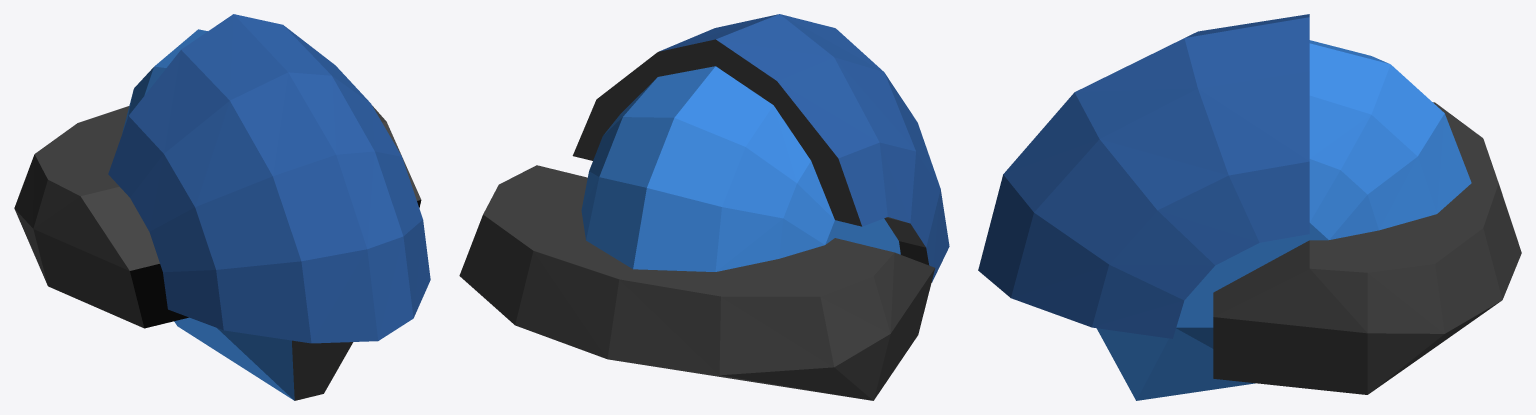
Rendered from Head2.FBX.
3 renders of one model, left to right at view 1: azimuth 30°, elevation 25°; view 2: azimuth 150°, elevation 25°; view 3: azimuth 270°, elevation 25°, orthographic. The views are drawn at different scales.
Visible parts, largest first — view 1: VIFS001, VIFS002, VIFS003, VIFS004; view 2: VIFS002, VIFS003, VIFS001; view 3: VIFS001, VIFS002, VIFS003.
Boxes of the visible parts, <box> form: VIFS001: <box>108,14,430,343</box>; VIFS002: <box>14,105,421,400</box>; VIFS003: <box>122,29,294,400</box>; VIFS004: <box>130,200,421,328</box>; VIFS002: <box>459,39,935,400</box>; VIFS003: <box>581,66,900,271</box>; VIFS001: <box>659,14,949,282</box>; VIFS001: <box>978,14,1309,338</box>; VIFS002: <box>1213,102,1521,394</box>; VIFS003: <box>1097,40,1471,400</box>.
Bounding box in the file's own units: 2.4 × 2.15 × 2.82.
